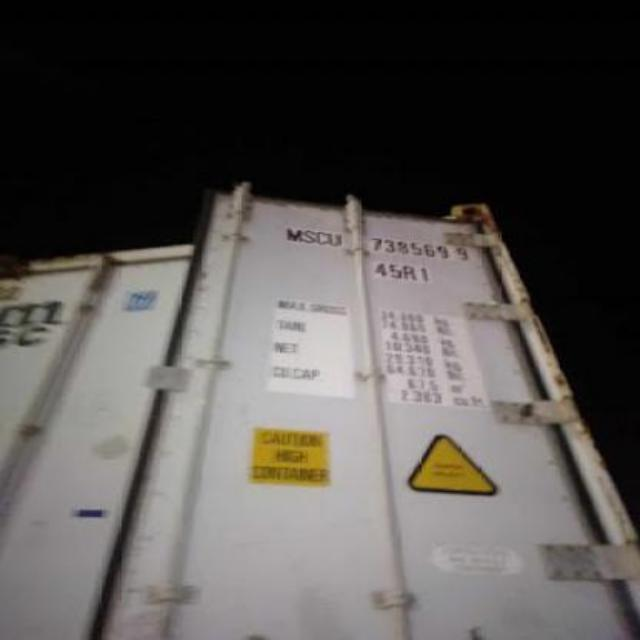3: (382, 232, 394, 255)
5: (410, 231, 422, 257)
6: (422, 239, 436, 257)
7: (368, 226, 382, 254)
8: (396, 236, 408, 256)
9: (454, 238, 470, 262), (438, 236, 450, 260)
C: (316, 223, 328, 247)
M: (284, 222, 304, 244)
S: (302, 223, 316, 249)
U: (330, 223, 346, 249)
